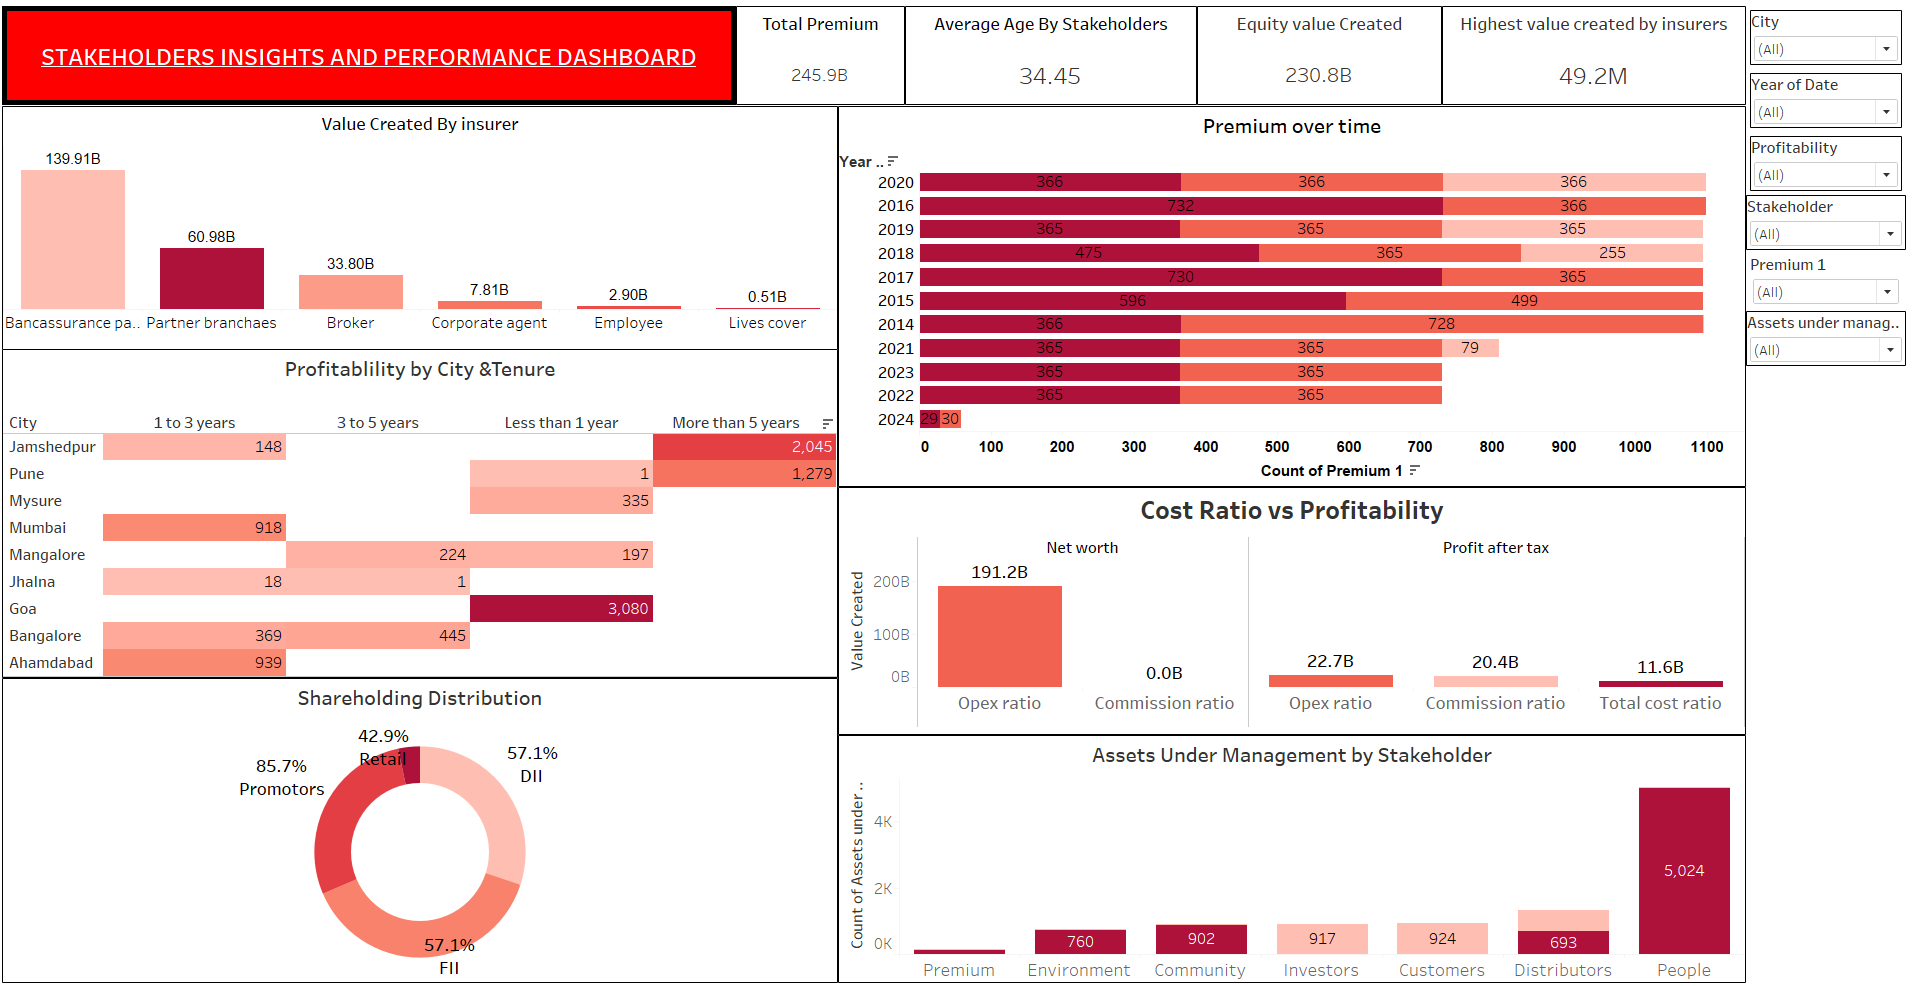

Layout of this report page (visuals, bound fields, positions):
{"tool":"tableau","page":{"name":"Dashboard 1","canvas":[1000,1000],"units":"permille","ordinal":0},"visuals":[{"type":"text","box":[4.7,10,377.4,99.8]},{"type":"worksheet","title":"Total Premium","mark":"Automatic","box":[382.1,10,86.8,99.8]},{"type":"worksheet","title":"Average Age By Stakeholders","mark":"Automatic","box":[468.9,10,150.1,99.8]},{"type":"worksheet","title":"Equity value Created","mark":"Automatic","box":[619,10,126.2,99.8]},{"type":"worksheet","title":"Highest value created by insurers","mark":"Automatic","box":[745.3,10,156.3,99.8]},{"type":"filter","title":"Profitablility by City &Tenure","param":"[federated.0xbrj4p0uu79d21fazgiw1g1as2d].[none:City:nk]","box":[901.6,10,93.7,78.7]},{"type":"filter","title":"Premium over time","param":"[federated.0xbrj4p0uu79d21fazgiw1g1as2d].[yr:Date:ok]","box":[901.6,88.6,93.7,78.7]},{"type":"worksheet","title":"Value Created By insurer","mark":"Automatic","rows":["Value Created"],"cols":["Insurer"],"box":[4.7,109.8,429.9,244.3]},{"type":"worksheet","title":"Premium over time","mark":"Bar","rows":["Date"],"cols":["Premium 1"],"box":[434.6,109.8,467,382.2]},{"type":"filter","title":"Cost Ratio vs Profitability","param":"[federated.0xbrj4p0uu79d21fazgiw1g1as2d].[none:Profitability:nk]","box":[901.6,167.3,93.7,78.7]},{"type":"filter","title":"Assets Under Management by Stakeholder","param":"[federated.0xbrj4p0uu79d21fazgiw1g1as2d].[none:Stakeholder:nk]","box":[901.6,245.9,93.7,68.7]},{"type":"filter","title":"Premium over time","param":"[federated.0xbrj4p0uu79d21fazgiw1g1as2d].[none:Premium 1:nk]","box":[901.6,314.6,93.7,76.2]},{"type":"worksheet","title":"Profitablility by City &Tenure","mark":"Square","rows":["City"],"cols":["Policy tenuer"],"box":[4.7,354.1,429.9,329.7]},{"type":"filter","title":"Assets Under Management by Stakeholder","param":"[federated.0xbrj4p0uu79d21fazgiw1g1as2d].[none:Assets under management:nk]","box":[901.6,390.8,93.7,68.7]},{"type":"worksheet","title":"Cost Ratio vs Profitability","mark":"Automatic","rows":["Value Created"],"cols":["Profitability","Cost ratio"],"box":[434.6,492,467,249]},{"type":"worksheet","title":"Shareholding Distribution","mark":"Pie","rows":["Calculation_1403152761714167808","Calculation_1403152761714167808"],"box":[4.7,683.8,429.9,306.2]},{"type":"worksheet","title":"Assets Under Management by Stakeholder","mark":"Automatic","rows":["Assets under management"],"cols":["Stakeholder"],"box":[434.6,741,467,249]}]}

Visuals, with their boxes on the dashboard's canvas, which has no fixed pixel size, in thousandths of its width and height (x1, y1, x2, y2). These are canvas units, not pixel positions in the 1913x986 screenshot, which may show the page scaled, cropped or inside an application window:
text: bbox=(5, 10, 382, 110)
"Total Premium" worksheet: bbox=(382, 10, 469, 110)
"Average Age By Stakeholders" worksheet: bbox=(469, 10, 619, 110)
"Equity value Created" worksheet: bbox=(619, 10, 745, 110)
"Highest value created by insurers" worksheet: bbox=(745, 10, 902, 110)
"Profitablility by City &Tenure" filter: bbox=(902, 10, 995, 89)
"Premium over time" filter: bbox=(902, 89, 995, 167)
"Value Created By insurer" worksheet: bbox=(5, 110, 435, 354)
"Premium over time" worksheet (Bar marks): bbox=(435, 110, 902, 492)
"Cost Ratio vs Profitability" filter: bbox=(902, 167, 995, 246)
"Assets Under Management by Stakeholder" filter: bbox=(902, 246, 995, 315)
"Premium over time" filter: bbox=(902, 315, 995, 391)
"Profitablility by City &Tenure" worksheet (Square marks): bbox=(5, 354, 435, 684)
"Assets Under Management by Stakeholder" filter: bbox=(902, 391, 995, 460)
"Cost Ratio vs Profitability" worksheet: bbox=(435, 492, 902, 741)
"Shareholding Distribution" worksheet (Pie marks): bbox=(5, 684, 435, 990)
"Assets Under Management by Stakeholder" worksheet: bbox=(435, 741, 902, 990)
